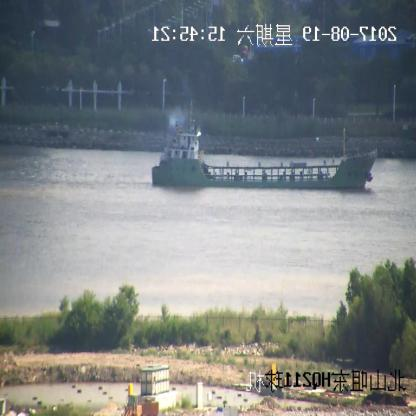Bulk Carrier: (151, 108, 377, 189)
